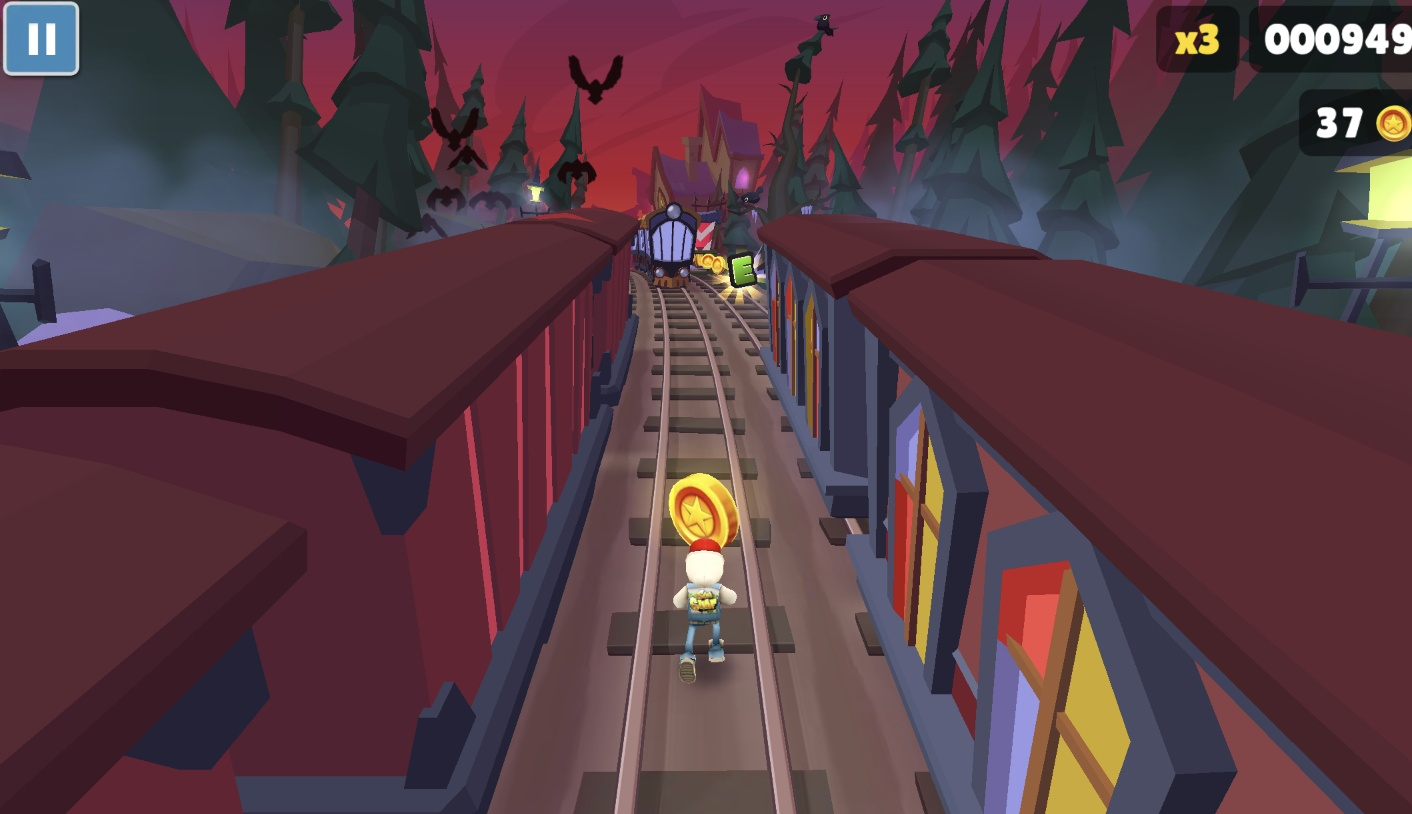overhead_barrier: (694, 212, 721, 270)
train: (0, 215, 629, 814), (794, 243, 1412, 814), (636, 203, 703, 293)
